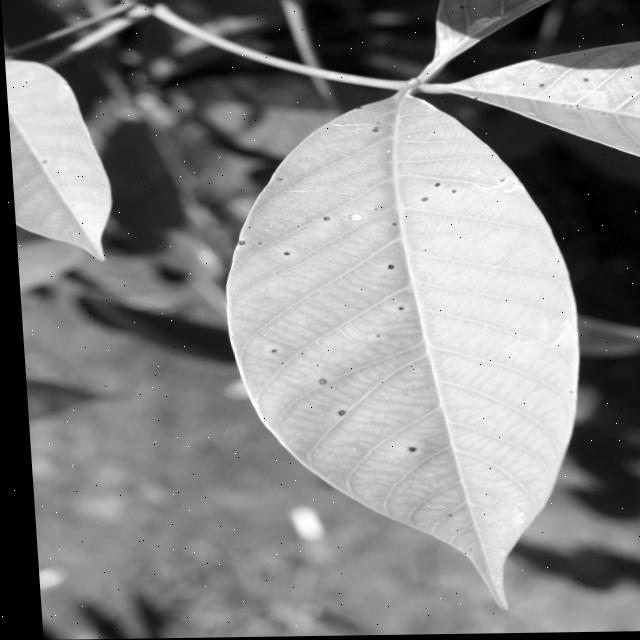Colletotrichum: (345, 214, 359, 223), (320, 217, 326, 221), (418, 199, 424, 203), (431, 184, 436, 188)
